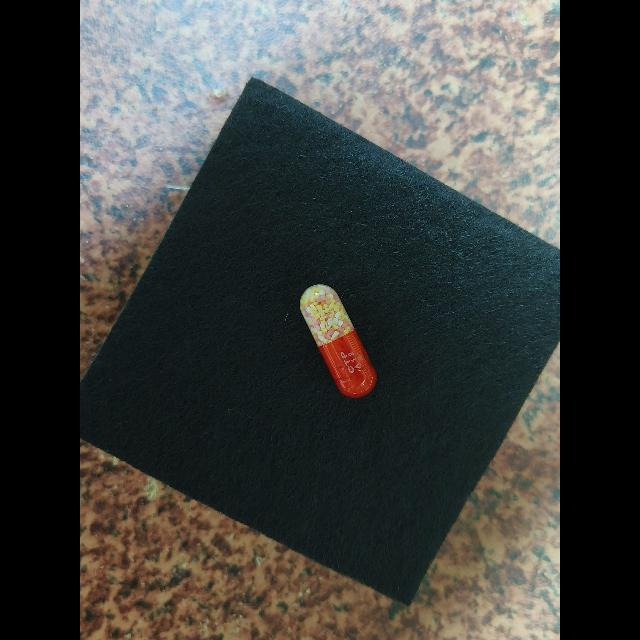Intact Capsule: (300, 284, 377, 398)
